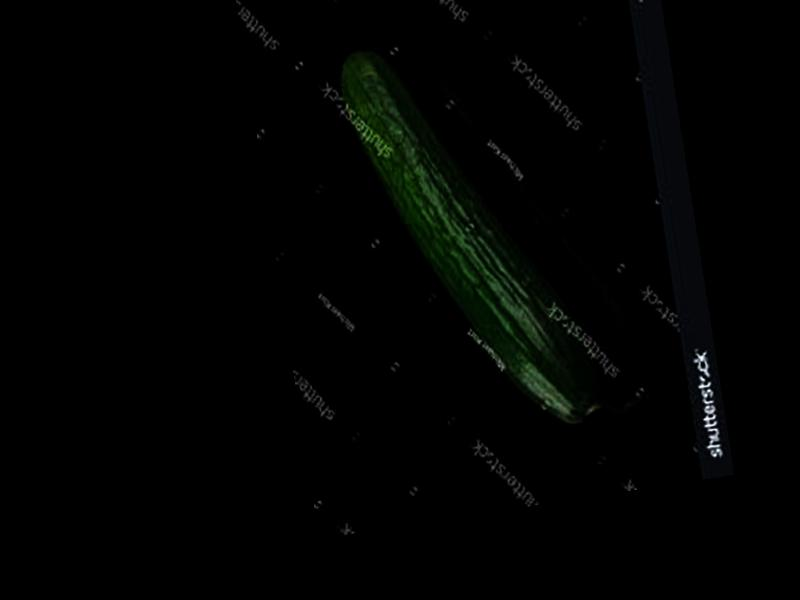Cucumber: (333, 18, 611, 451)
